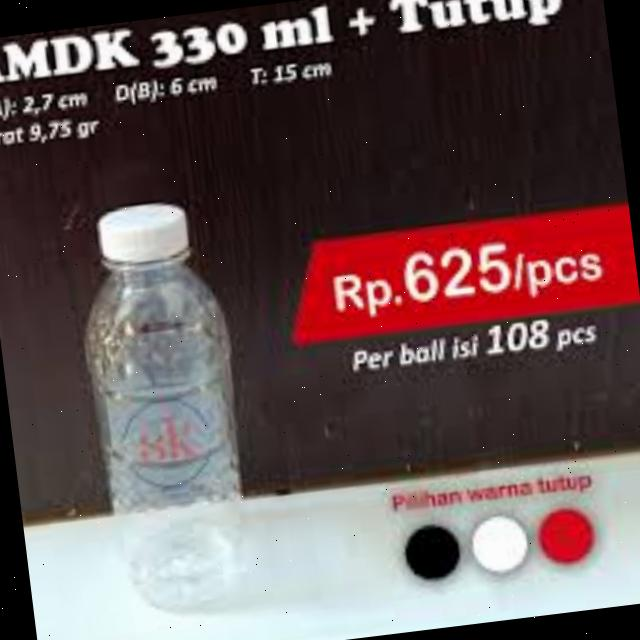trash: (53, 190, 272, 626)
